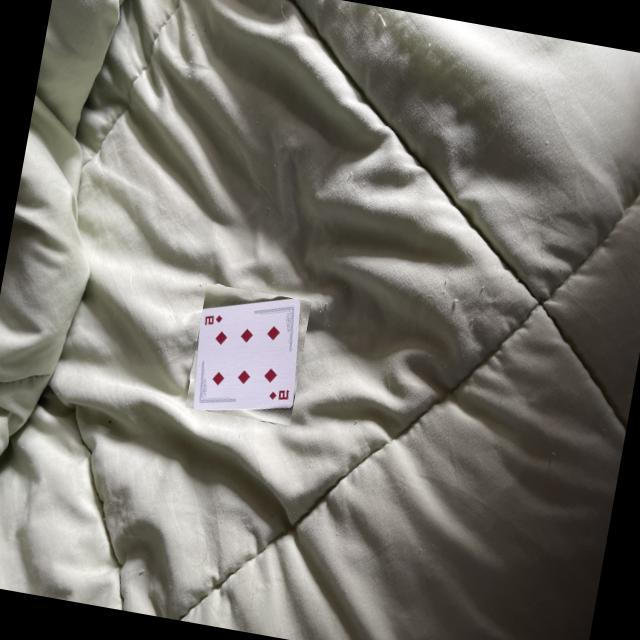6 of diamonds: (194, 298, 301, 407)
